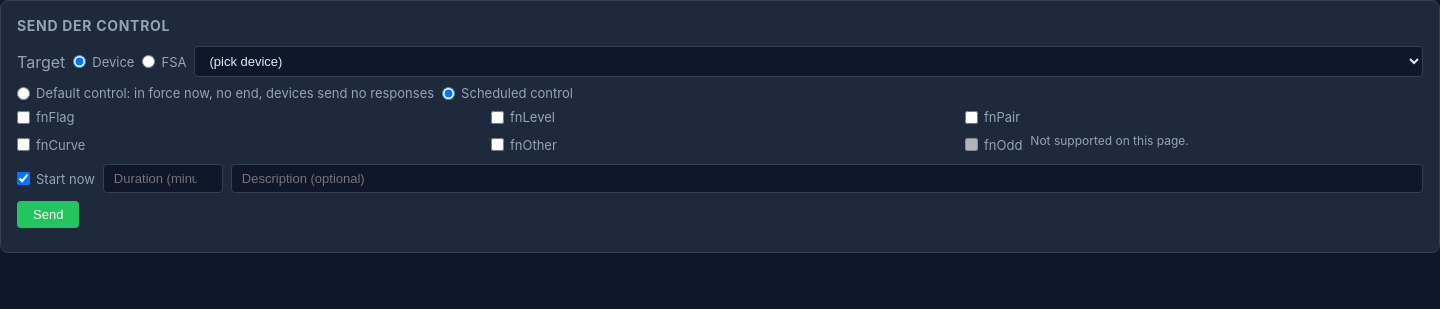
Scenario: DerControl: the form is built from the catalog by kind › names a failed curve read beside the curve field
Step 1. Click the checkbox labelled "fnCurve" → click(24, 144), box [17,138,30,151]
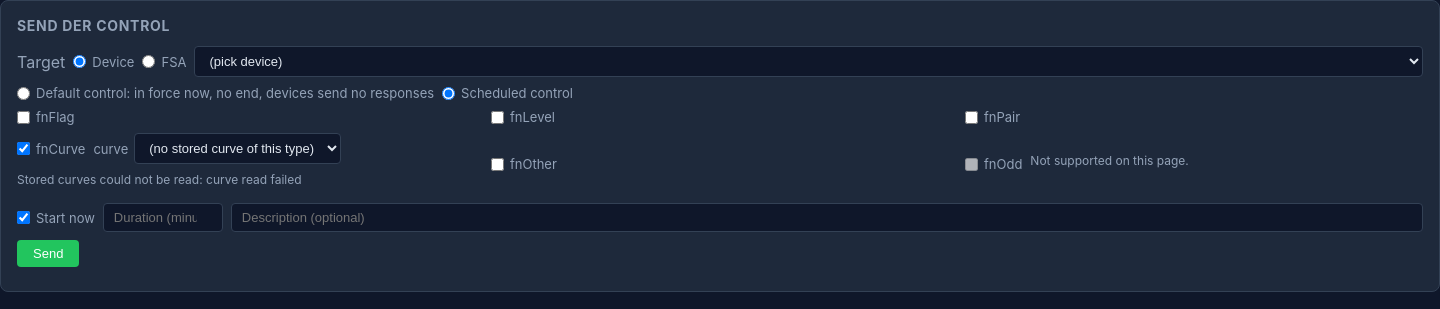
Check: the text with test id "control-curves-error" shows "curve read failed", box [17,172,302,187]
